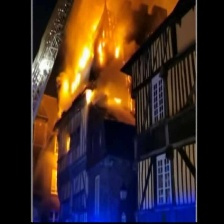fire: (63, 37, 94, 92), (96, 30, 125, 66)
